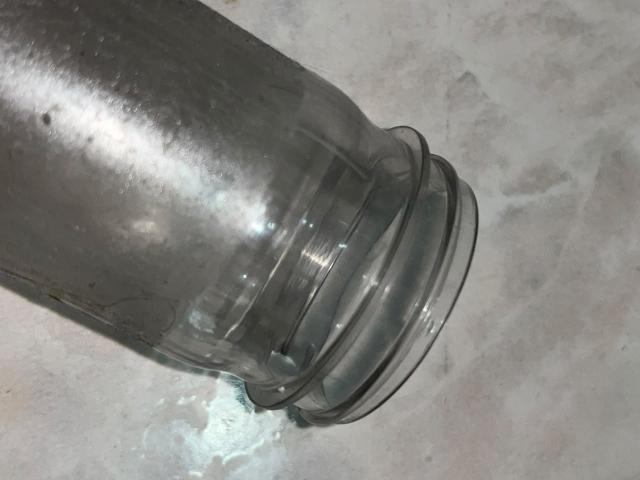PET: (0, 56, 524, 440)
